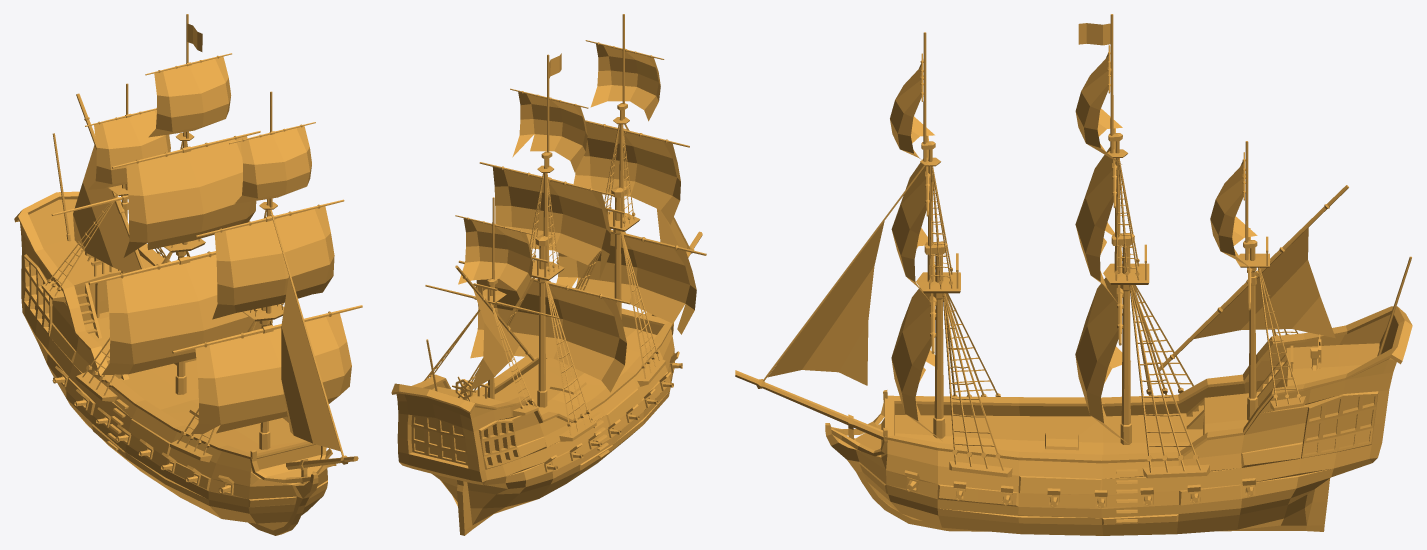
The model's file is ship-pirate-flags.fbx.
3 renders of one model, left to right at view 1: azimuth 30°, elevation 25°; view 2: azimuth 150°, elevation 25°; view 3: azimuth 270°, elevation 25°, orthographic. The views are drawn at different scales.
Visible parts, largest first — view 1: ship-pirate-flags; view 2: ship-pirate-flags; view 3: ship-pirate-flags.
Boxes of the visible parts, box(x1,y1,x2,y2) form: ship-pirate-flags: box(14, 14, 362, 535); ship-pirate-flags: box(391, 14, 706, 535); ship-pirate-flags: box(735, 14, 1412, 535).
Bounding box in the file's own units: 12.22 × 28.51 × 33.91.
